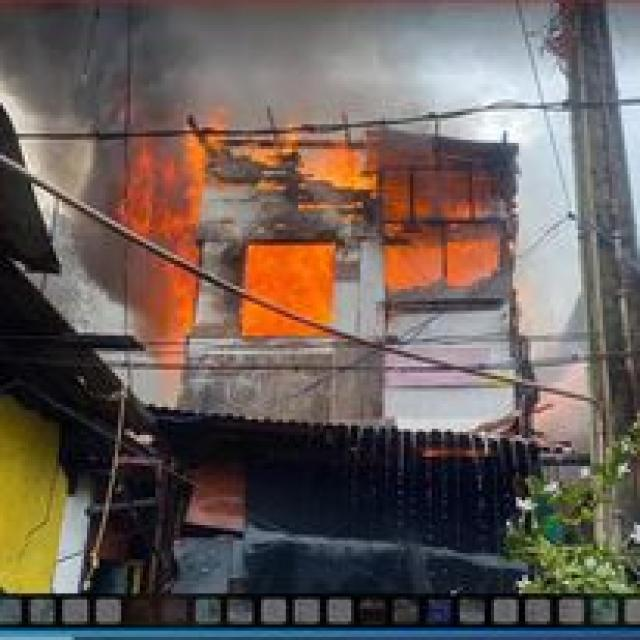Fire: (120, 110, 204, 358), (369, 150, 504, 304), (221, 126, 378, 214), (240, 232, 340, 351)
Smoke: (2, 0, 186, 314)
